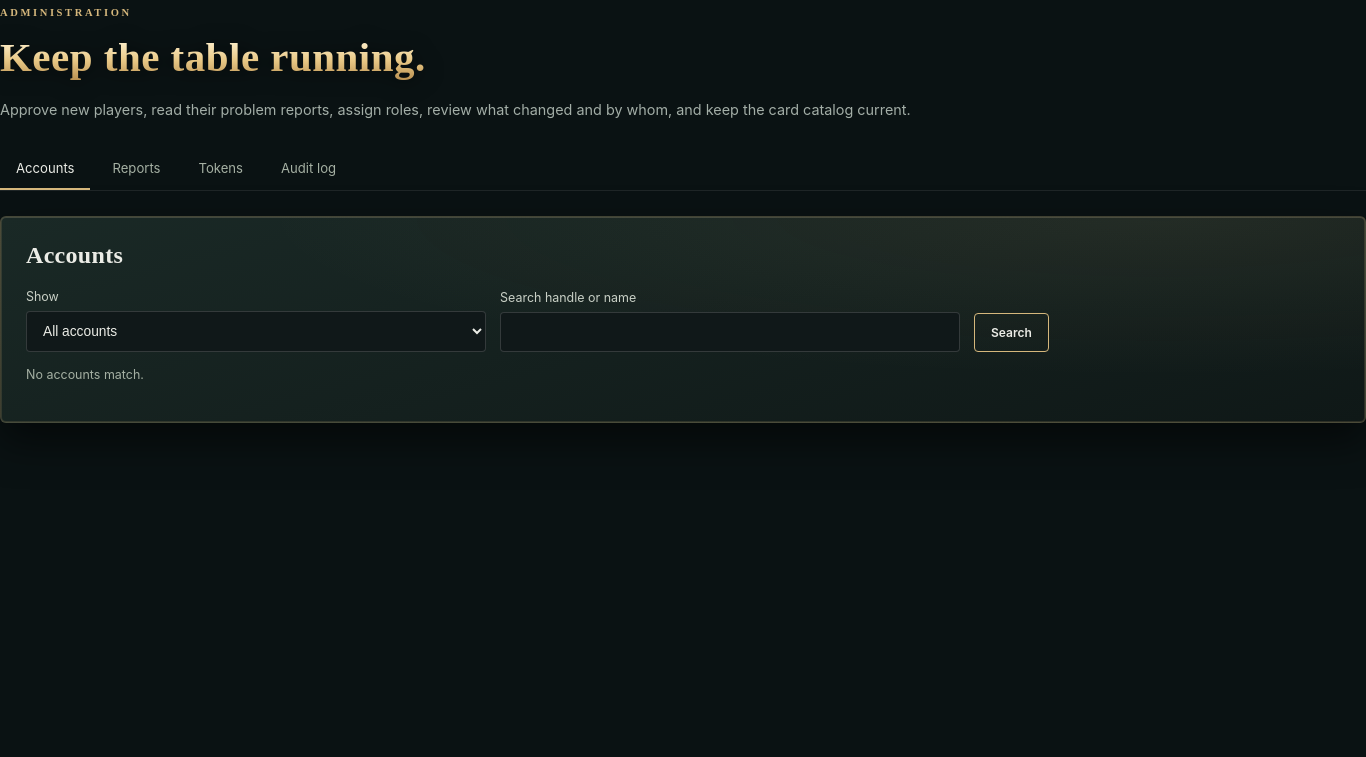
Test case: a report of a message › is marked in the list, and opened shows the excerpt with who sent it
Step 1. Click the tab "Reports" → (136, 169), box [96,148,176,190]
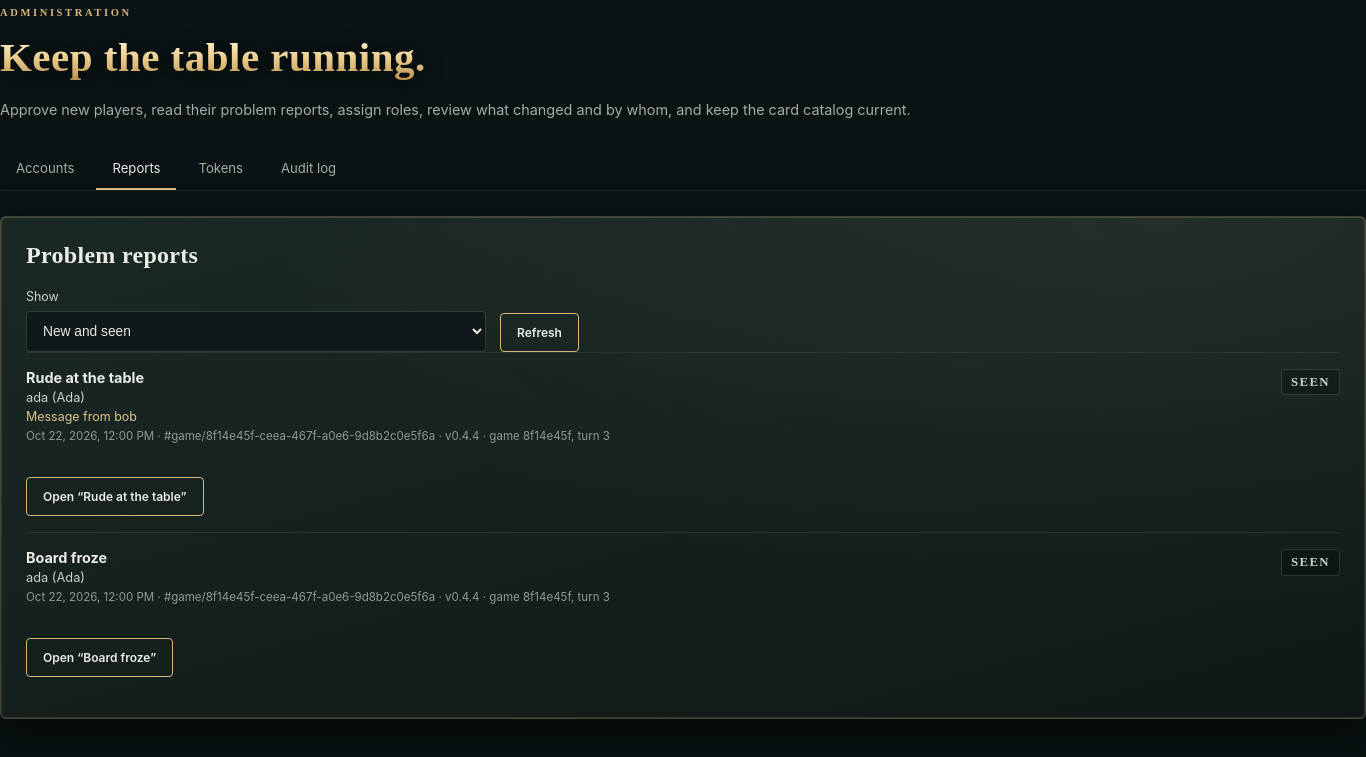
Check: the list item "Board froze" does not show "Message from", box [26,532,1340,693]
Check: the list item "Rude at the table" shows "Message from bob", box [26,352,1340,532]
Step 2. Click the button "Open “Rude at the table”" → (115, 496), box [26,477,204,516]
(page scrolled)
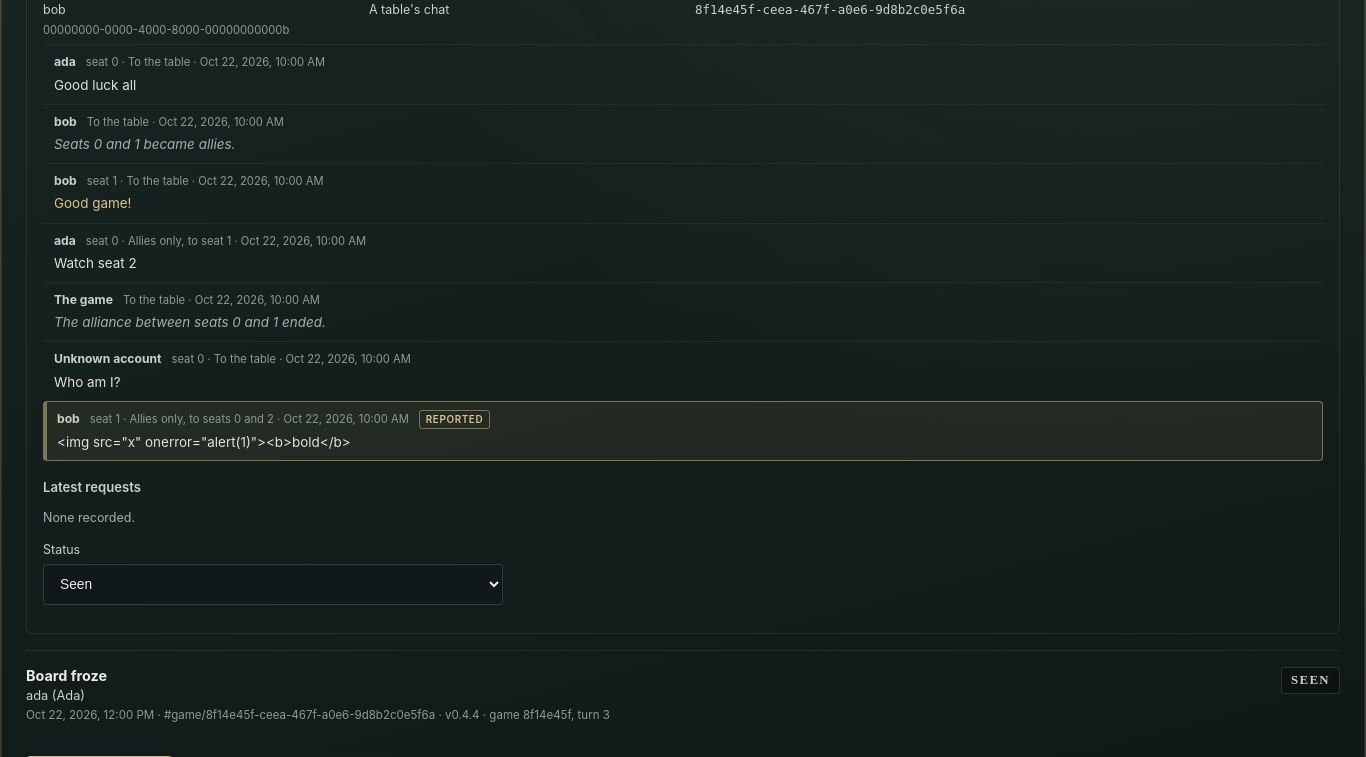
Check: the list item "Rude at the table" shows "00000000-0000-4000-8000-00000000000b", box [43,23,289,37]
Check: the list item "Rude at the table" shows "A table's chat", box [369,2,449,17]
Check: the 7th list item shows "<img src=\"x\" onerror=\"alert(1)\"><b>bold</b>", box [57,434,351,450]
